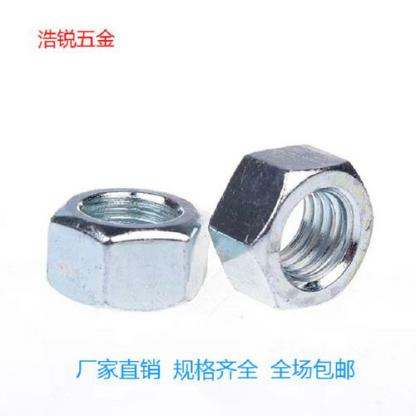FOD: (206, 138, 376, 312), (41, 188, 209, 312)
